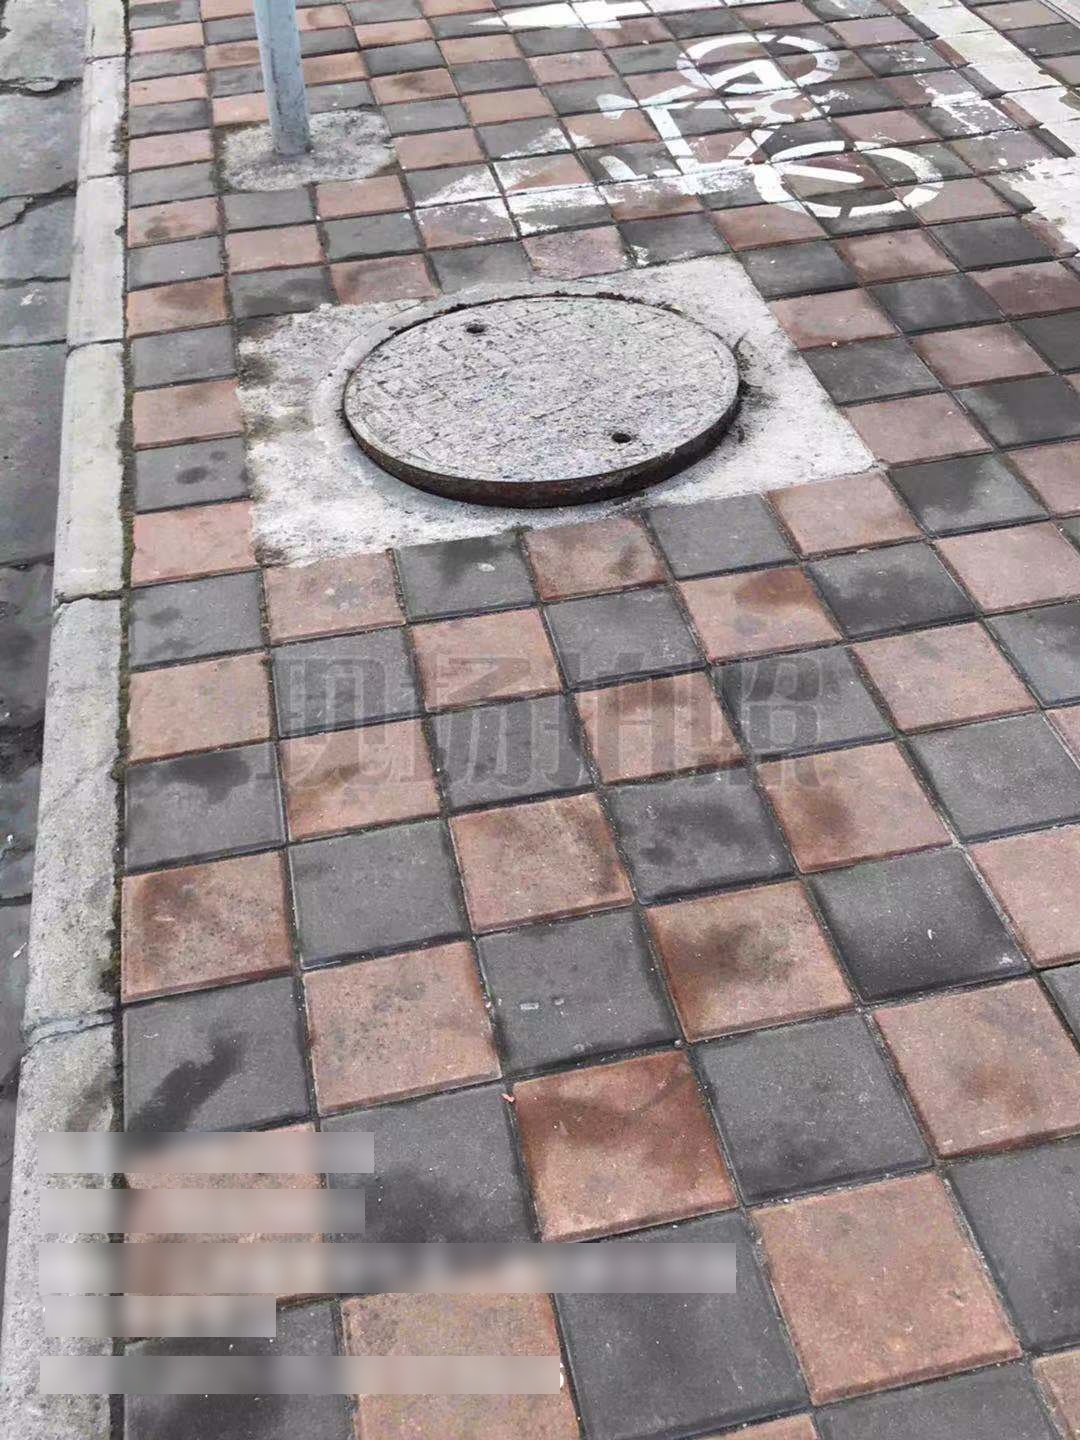uncovered: (319, 278, 766, 517)
